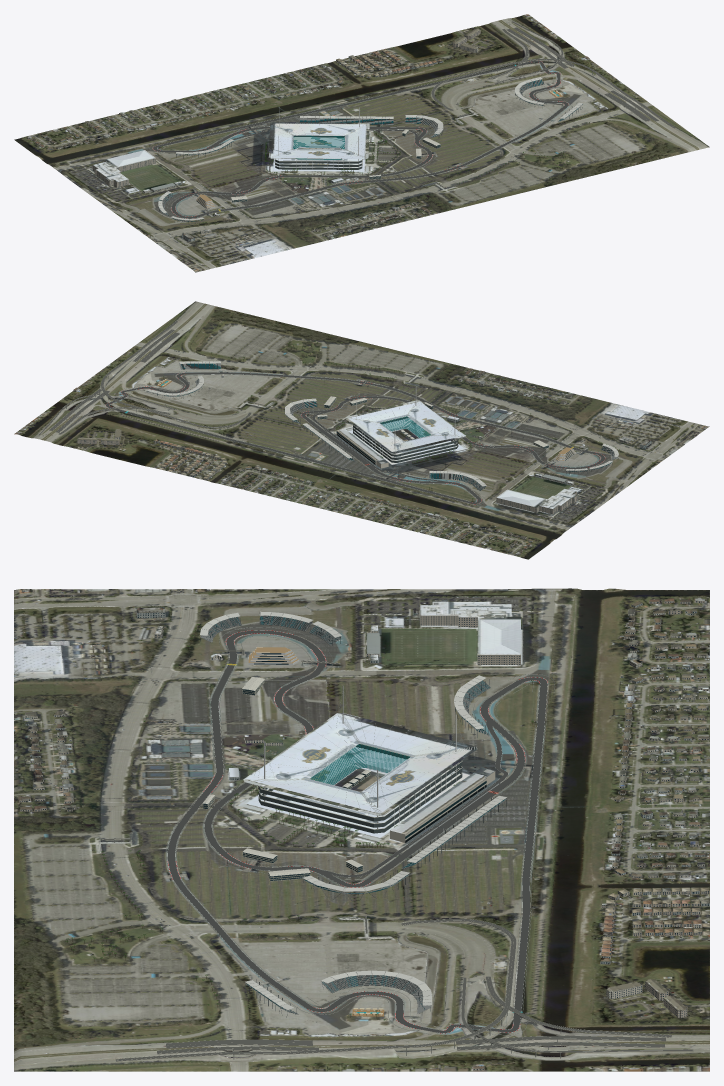
File: miami.glb
3 views of the same model, one above another, from view 1: azimuth 30°, elevation 25°; view 2: azimuth 150°, elevation 25°; view 3: azimuth 270°, elevation 25° (orthographic). The views are drawn at different scales.
Visible parts, largest first — view 1: Miami_USGS_Terrain, Miami_Current_Roofs, Miami_Current_Buildings, Miami_Raceway, Miami_Stadium_Roof, Miami_2026_Grandstands, Miami_Mapped_Flyovers, Miami_Hard_Rock_Stadium, Miami_Safety_Barriers, Miami_2026_Hospitality_And_MSC_Yacht, Miami_Mapped_Palms; view 2: Miami_USGS_Terrain, Miami_Current_Roofs, Miami_Current_Buildings, Miami_Raceway, Miami_Stadium_Roof, Miami_2026_Grandstands, Miami_Mapped_Flyovers, Miami_Hard_Rock_Stadium, Miami_Safety_Barriers, Miami_2026_Hospitality_And_MSC_Yacht; view 3: Miami_USGS_Terrain, Miami_Current_Roofs, Miami_Raceway, Miami_Stadium_Roof, Miami_Current_Buildings, Miami_Mapped_Flyovers, Miami_2026_Grandstands, Miami_Hard_Rock_Stadium, Miami_Safety_Barriers, Miami_2026_Hospitality_And_MSC_Yacht, Miami_Mapped_Palms, Miami_Pit_Lane (+1 smaller).
Boxes of the visible parts, x1,y1,x2,y2 form: Miami_USGS_Terrain: [14, 14, 709, 272]; Miami_Current_Roofs: [27, 28, 589, 238]; Miami_Current_Buildings: [27, 30, 589, 241]; Miami_Raceway: [153, 60, 568, 218]; Miami_Stadium_Roof: [269, 122, 369, 158]; Miami_2026_Grandstands: [158, 77, 583, 223]; Miami_Mapped_Flyovers: [193, 21, 675, 214]; Miami_Hard_Rock_Stadium: [269, 107, 368, 169]; Miami_Safety_Barriers: [149, 59, 571, 217]; Miami_2026_Hospitality_And_MSC_Yacht: [196, 89, 563, 209]; Miami_Mapped_Palms: [161, 86, 592, 224]; Miami_USGS_Terrain: [14, 301, 709, 559]; Miami_Current_Roofs: [74, 368, 650, 553]; Miami_Current_Buildings: [73, 369, 651, 554]; Miami_Raceway: [106, 372, 604, 503]; Miami_Stadium_Roof: [345, 400, 465, 453]; Miami_2026_Grandstands: [147, 361, 618, 490]; Miami_Mapped_Flyovers: [38, 321, 587, 466]; Miami_Hard_Rock_Stadium: [345, 386, 465, 462]; Miami_Safety_Barriers: [102, 371, 608, 505]; Miami_2026_Hospitality_And_MSC_Yacht: [157, 379, 575, 461]; Miami_USGS_Terrain: [14, 588, 709, 1071]; Miami_Current_Roofs: [18, 597, 709, 1068]; Miami_Raceway: [167, 630, 547, 1033]; Miami_Stadium_Roof: [243, 713, 476, 815]; Miami_Current_Buildings: [18, 598, 709, 1070]; Miami_Mapped_Flyovers: [101, 650, 693, 1061]; Miami_2026_Grandstands: [200, 611, 507, 1017]; Miami_Hard_Rock_Stadium: [243, 685, 477, 833]; Miami_Safety_Barriers: [166, 627, 554, 1035]; Miami_2026_Hospitality_And_MSC_Yacht: [202, 647, 384, 1016]; Miami_Mapped_Palms: [65, 624, 533, 1020]; Miami_Pit_Lane: [322, 721, 507, 877].
Bounding box in the file's own units: 1800 × 110 × 1100.
13 materials, 1 textured.
